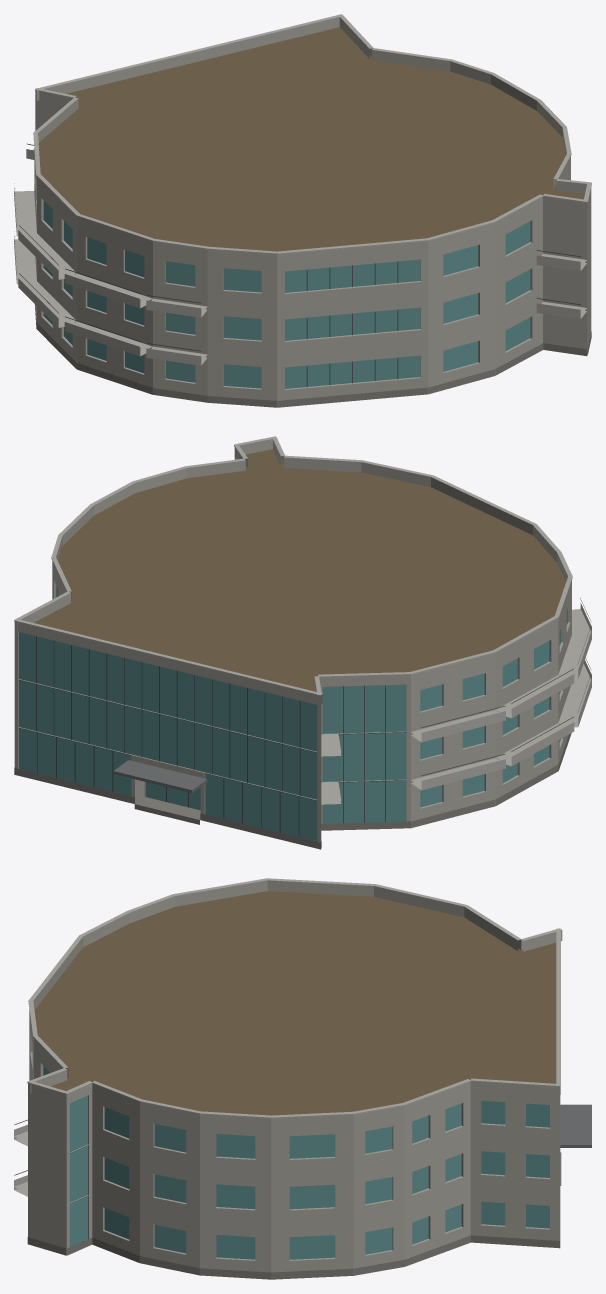
3 renders of one model, top to bottom at view 1: azimuth 30°, elevation 25°; view 2: azimuth 150°, elevation 25°; view 3: azimuth 270°, elevation 25°, orthographic. The views are drawn at different scales.
Parts seen in each view (by area): view 1: sangnok__roof, sangnok__wall, sangnok__glass, sangnok__trim, sangnok__parapet, sangnok__base, sangnok__frame; view 2: sangnok__roof, sangnok__glass, sangnok__wall, sangnok__trim, sangnok__parapet, sangnok__base, sangnok__frame, sangnok__canopy; view 3: sangnok__roof, sangnok__wall, sangnok__glass, sangnok__parapet, sangnok__trim, sangnok__base, sangnok__canopy.
Part boxes in pixels (x1,y1,x2,y2): sangnok__roof: (38, 27, 584, 251); sangnok__wall: (34, 99, 591, 407); sangnok__glass: (43, 201, 530, 388); sangnok__trim: (14, 14, 591, 365); sangnok__parapet: (35, 17, 591, 263); sangnok__base: (34, 304, 591, 407); sangnok__frame: (14, 143, 580, 387); sangnok__roof: (34, 449, 565, 830); sangnok__glass: (19, 585, 567, 841); sangnok__wall: (14, 455, 571, 848); sangnok__trim: (14, 436, 591, 804); sangnok__parapet: (14, 439, 571, 704); sangnok__base: (14, 733, 571, 849); sangnok__frame: (19, 598, 591, 836); sangnok__canopy: (113, 760, 207, 792); sangnok__roof: (34, 891, 556, 1115); sangnok__wall: (28, 1013, 560, 1275); sangnok__glass: (43, 1066, 549, 1259); sangnok__parapet: (28, 880, 562, 1127); sangnok__trim: (14, 878, 561, 1196); sangnok__base: (27, 1152, 561, 1279); sangnok__canopy: (560, 1104, 591, 1147).
Bounding box in the file's own units: 44.24 × 13.9 × 43.59.
